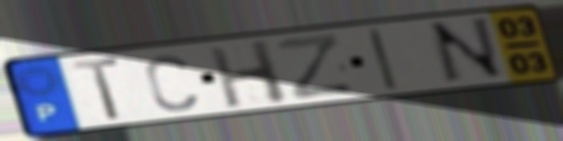C: (141, 52, 201, 114)
H: (204, 37, 292, 110)
I: (363, 25, 403, 94)
N: (424, 14, 511, 87)
T: (69, 55, 126, 123)
Z: (272, 31, 359, 103)
